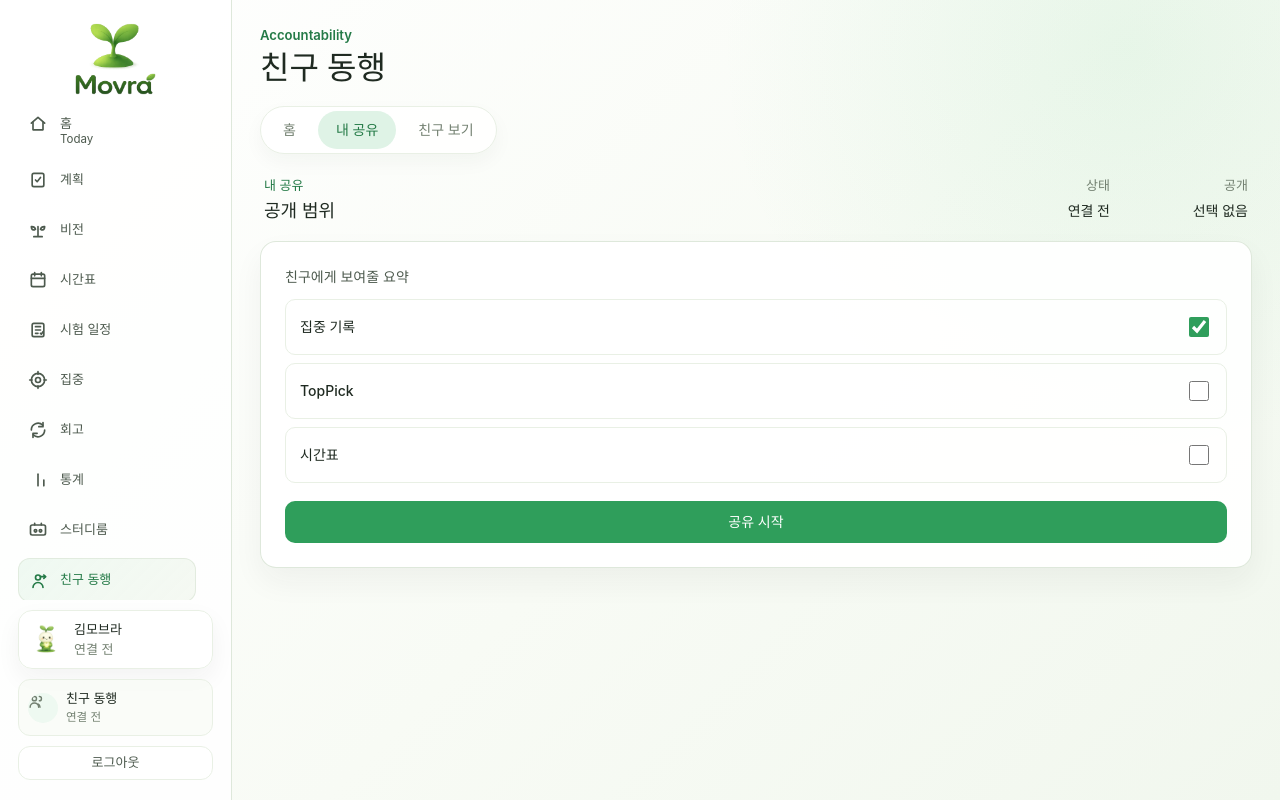
AccountabilityPage › creates a relation from the share page without showing invite-code controls
This screenshot has width=1280, height=800.
Expected: the heading "친구 동행" is shown, [260, 50, 386, 86]
Step 1. Click the checkbox labelled "TopPick" → [1199, 391], box [1189, 381, 1209, 401]
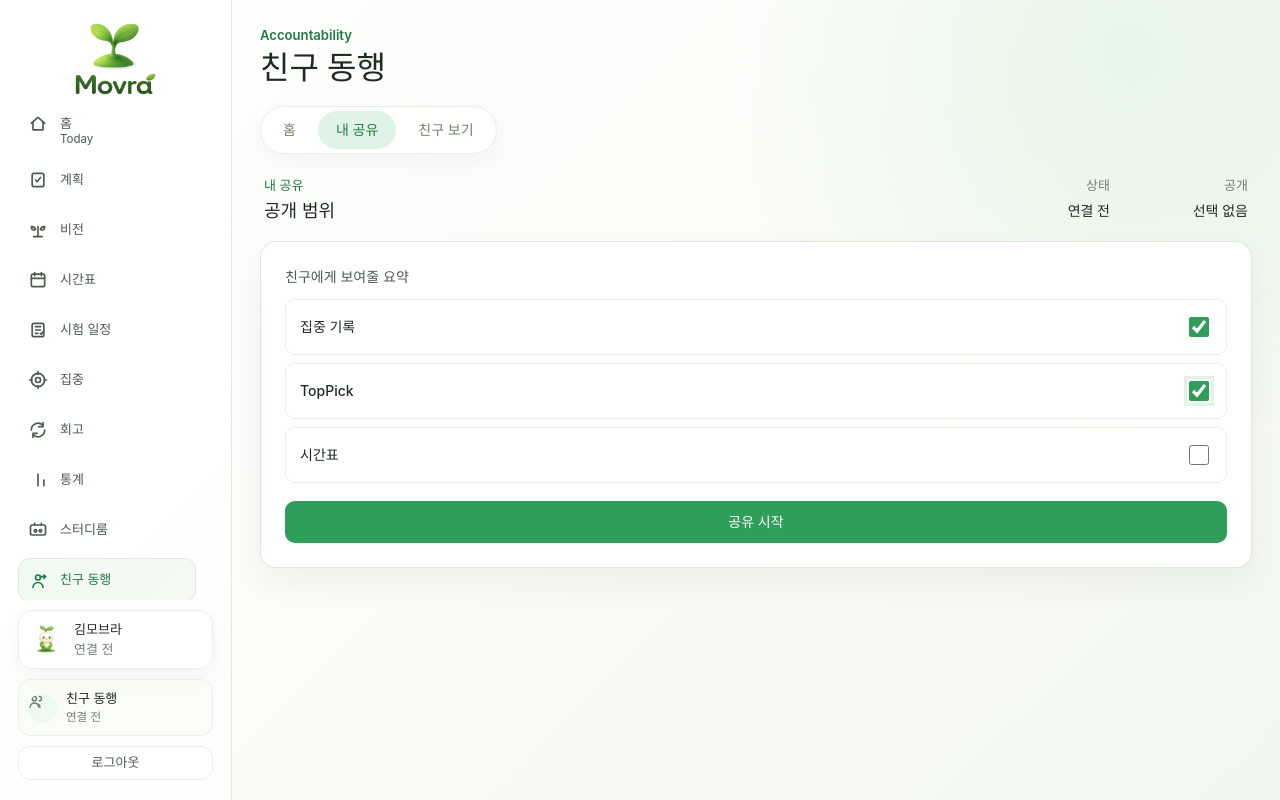
Step 2. Click the button "공유 시작" → [756, 522], box [285, 501, 1227, 543]
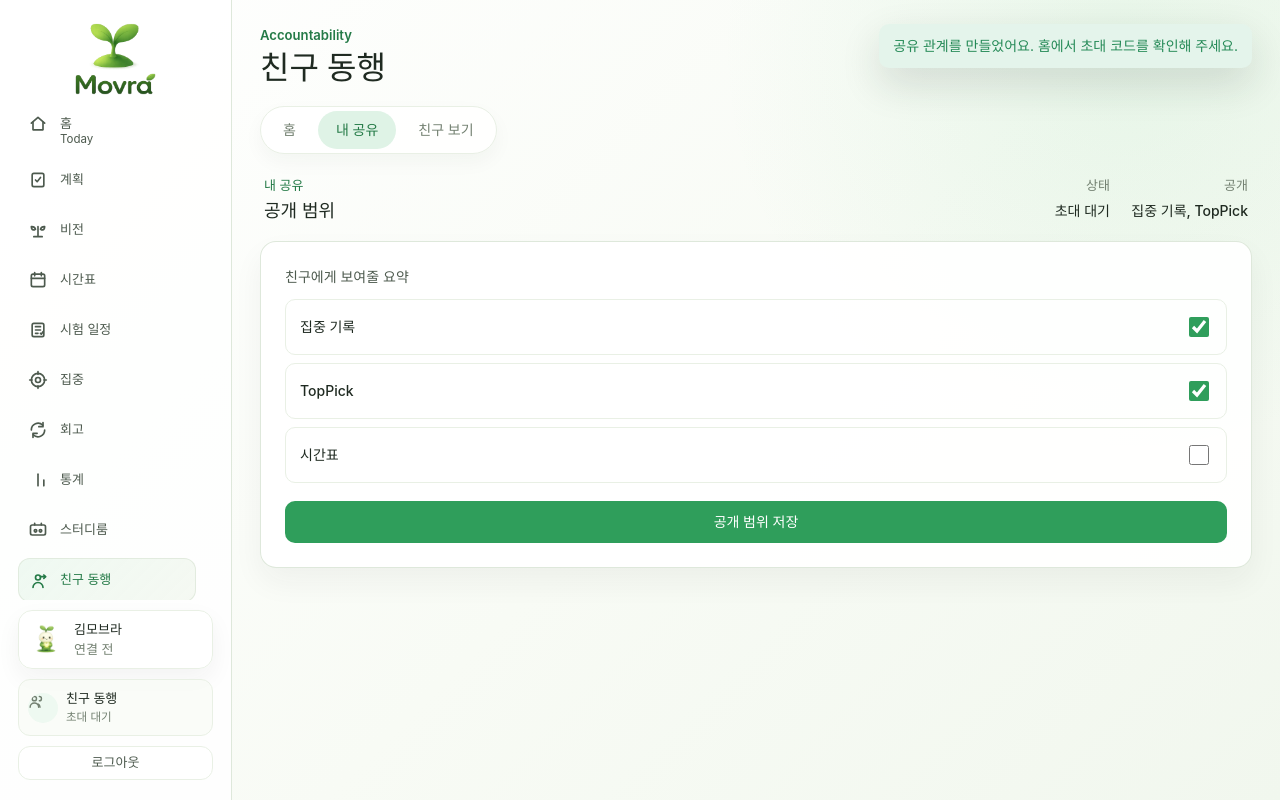
Expected: the text "공유 관계를 만들었어요. 홈에서 초대 코드를 확인해 주세요." is shown, [879, 24, 1252, 68]
Expected: the text "집중 기록, TopPick" is shown, [1128, 200, 1248, 221]
